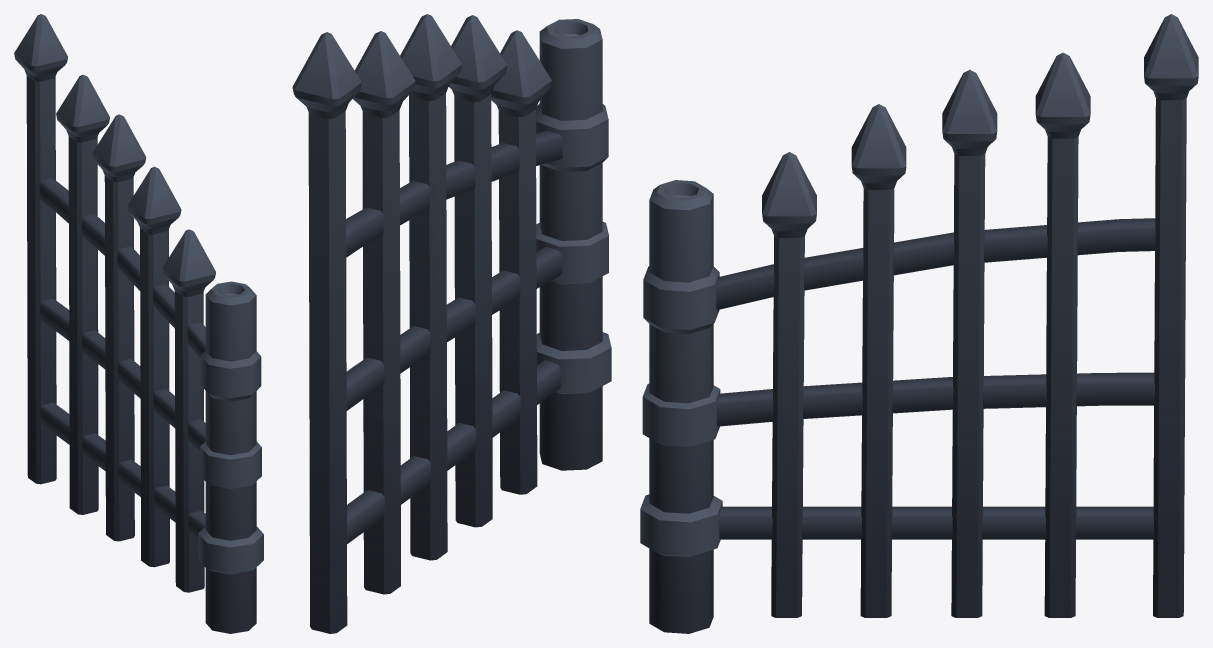
File: Gate.glb
The picture shows the model from 3 angles, left to right: view 1: azimuth 30°, elevation 25°; view 2: azimuth 150°, elevation 25°; view 3: azimuth 270°, elevation 25°; orthographic projection. The views are drawn at different scales.
Visible parts, largest first — view 1: Gate; view 2: Gate; view 3: Gate.
Boxes of the visible parts, x1=… form: Gate: x1=14, y1=14, x2=263, y2=633; Gate: x1=292, y1=14, x2=611, y2=633; Gate: x1=640, y1=14, x2=1198, y2=633.
Size of the model in its own units: 0.2017 by 1.64 by 1.37.
1 material, 1 textured.
